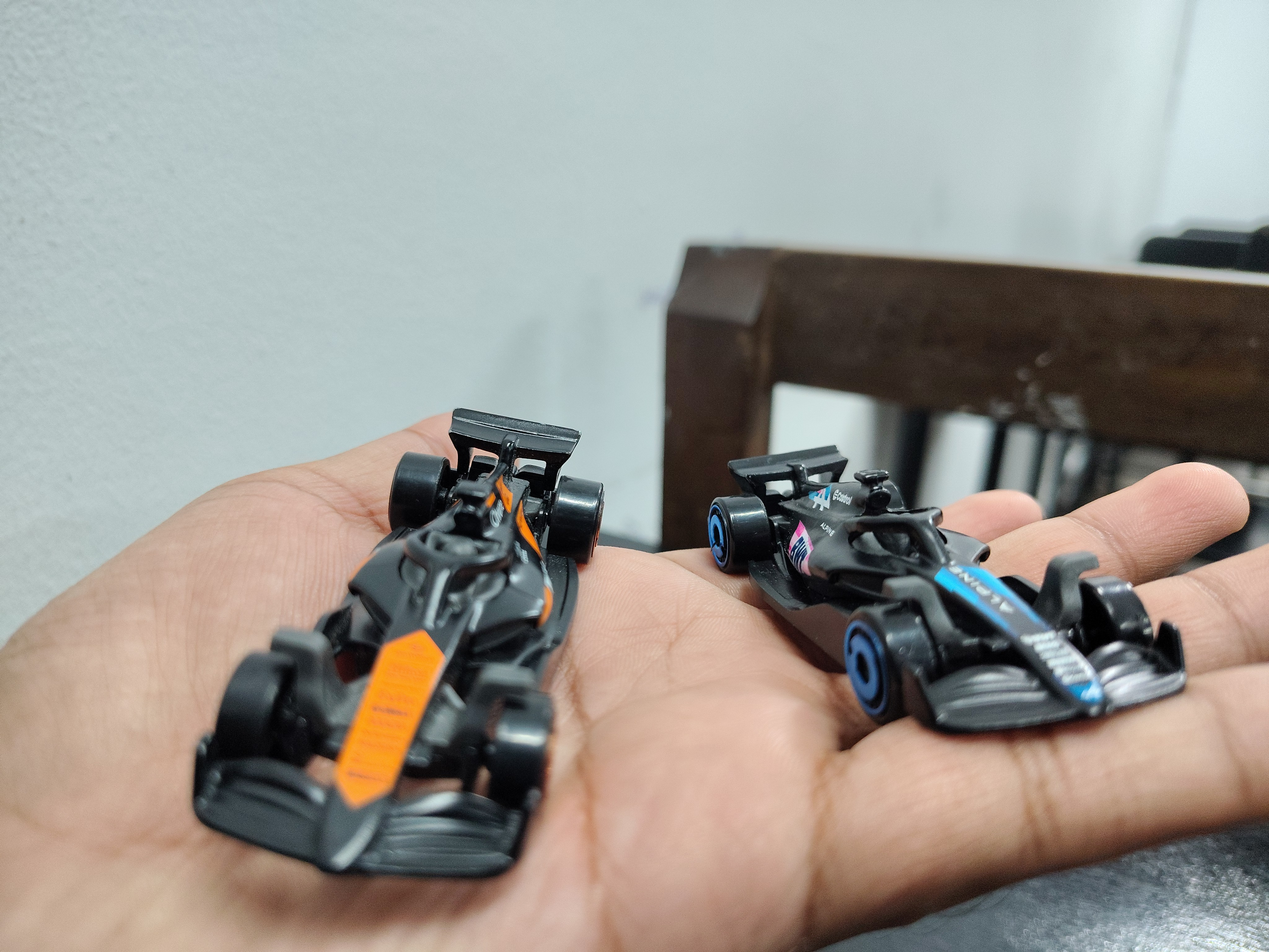Alpine A524: (678, 377, 1190, 784)
McLaren MCL40: (138, 322, 663, 894)
